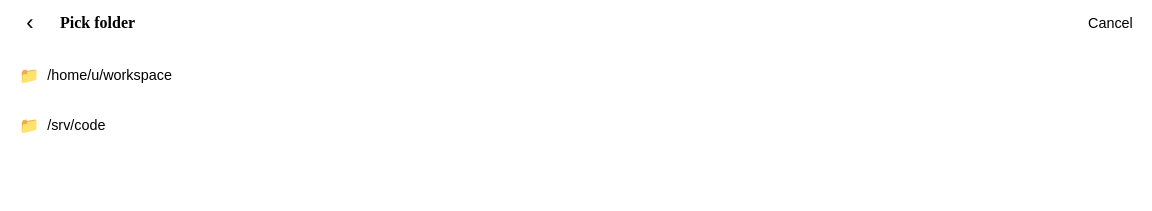
FolderPicker (multiple roots) › returns to the roots list when going Up from a root
# Enter a root, then Up should land back on the roots list.
Step 1. Click the button "📁 /srv/code" → click(76, 125), box [8,103,1144,147]
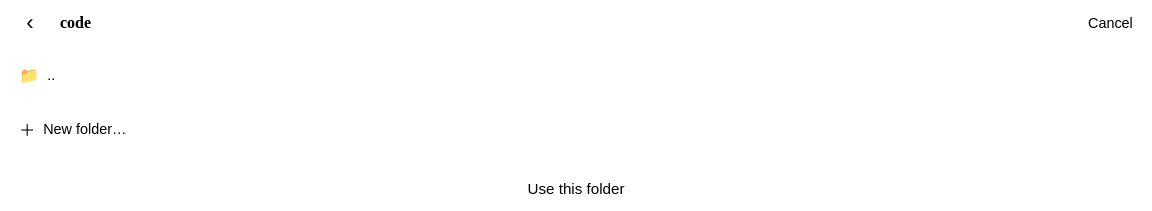
Step 2. Click the button named "up one level" → click(29, 75), box [8,53,1144,97]
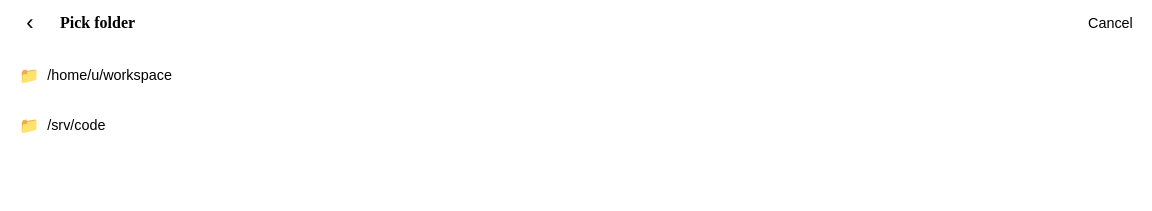
Expected: the button "📁 /home/u/workspace" is shown, [8,53,1144,97]
Expected: the button "📁 /srv/code" is shown, [8,103,1144,147]
